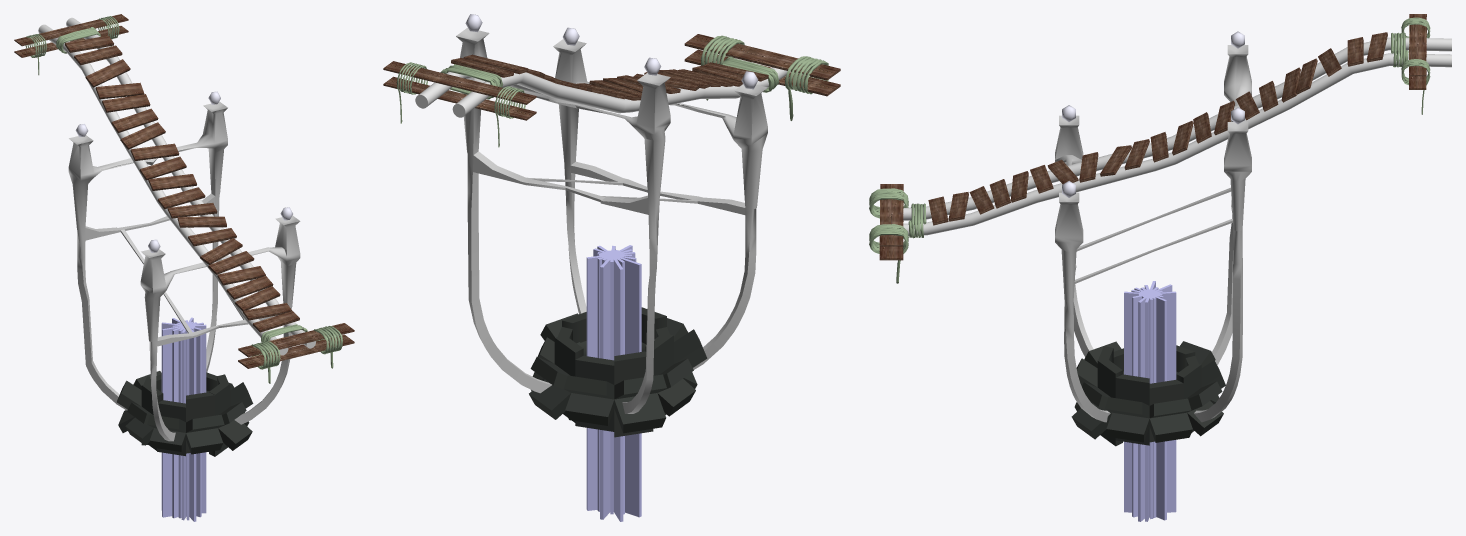
Rendered from 1_bridge_up.fbx.
3 renders of one model, left to right at view 1: azimuth 30°, elevation 25°; view 2: azimuth 150°, elevation 25°; view 3: azimuth 270°, elevation 25°, orthographic. The views are drawn at different scales.
Parts seen in each view (by area): view 1: 1_straightup_La, gravityring, 1_straightup_base, 1_straightup_verschlag, 1_straightup_verschlag02, 1_straightup_verschlag_ropes, 1_straightup_La_ropes, 1_straightup_verschlag02_ropes; view 2: gravityring, 1_straightup_base, 1_straightup_La, 1_straightup_verschlag02, 1_straightup_verschlag, 1_straightup_verschlag_ropes, 1_straightup_La_ropes, 1_straightup_verschlag02_ropes; view 3: gravityring, 1_straightup_La, 1_straightup_base, 1_straightup_verschlag, 1_straightup_verschlag_ropes, 1_straightup_verschlag02, 1_straightup_La_ropes.
Part boxes in pixels (x1,y1,x2,y2): 1_straightup_La: (38,17,315,355); gravityring: (117,317,253,521); 1_straightup_base: (68,91,300,441); 1_straightup_verschlag: (238,323,354,368); 1_straightup_verschlag02: (14,14,128,57); 1_straightup_verschlag_ropes: (251,326,342,383); 1_straightup_La_ropes: (56,27,307,342); 1_straightup_verschlag02_ropes: (25,16,119,75); gravityring: (529,245,707,521); 1_straightup_base: (456,14,767,413); 1_straightup_La: (415,54,787,117); 1_straightup_verschlag02: (383,61,536,120); 1_straightup_verschlag: (684,34,840,96); 1_straightup_verschlag_ropes: (701,35,828,120); 1_straightup_La_ropes: (440,56,779,99); 1_straightup_verschlag02_ropes: (396,62,525,147); gravityring: (1071,281,1225,521); 1_straightup_La: (903,32,1451,236); 1_straightup_base: (1055,31,1251,422); 1_straightup_verschlag: (879,184,903,260); 1_straightup_verschlag_ropes: (869,188,908,283); 1_straightup_verschlag02: (1409,14,1426,89); 1_straightup_La_ropes: (908,32,1408,238).
Size of what is drawn, in the model's own units: 43.57 by 111 by 124.
7 materials, 1 textured.
